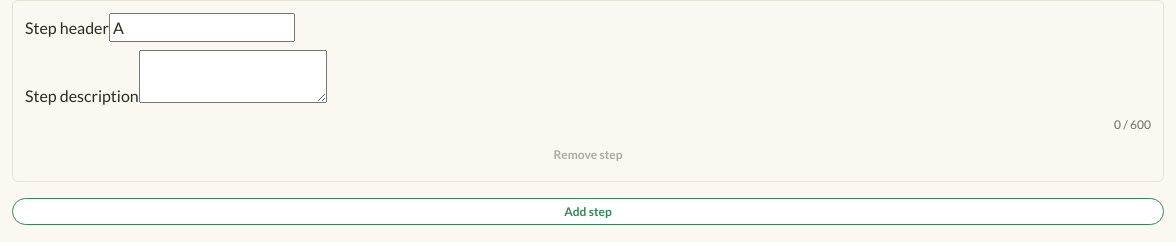
StepEditor › updates the character count live as the description is edited
Type "Hello" into the text box labelled "Step description" at (233, 76), box [139, 50, 327, 103]
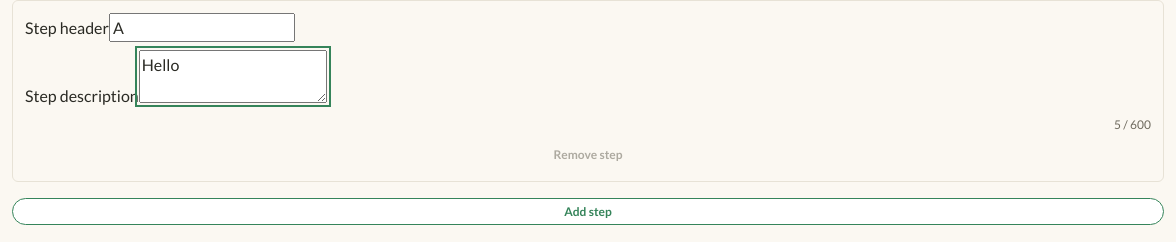
Check: the text "5 / 600" is shown, box [1114, 116, 1151, 133]
